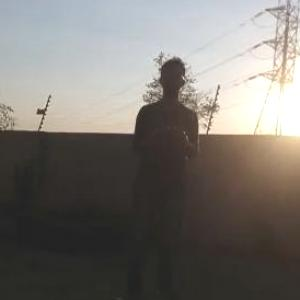follow: (108, 49, 202, 299)
